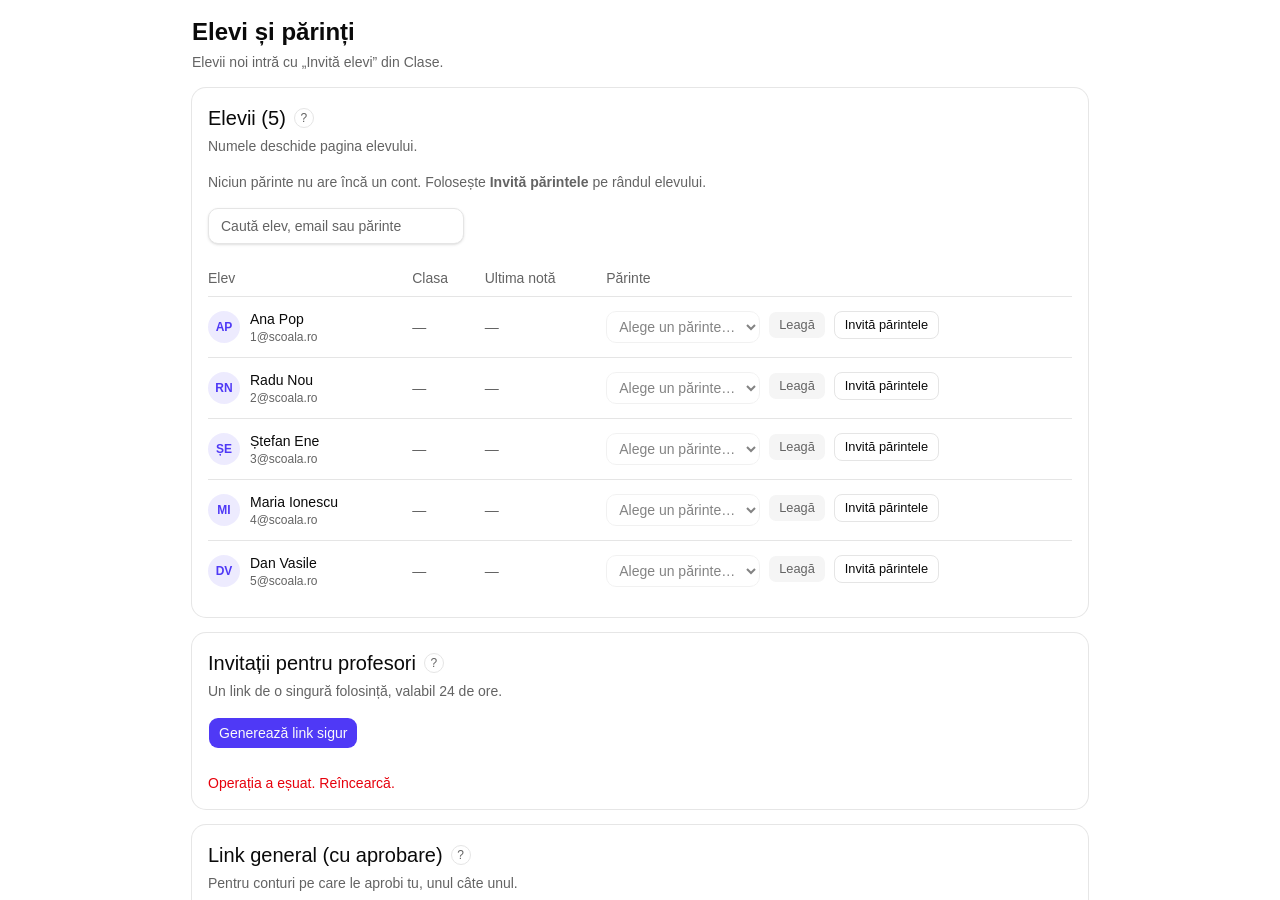
AdminStudentsPage › search and filters › finds a student by name, ignoring diacritics, and says how many are left
Check: the link "Ana Pop" is shown, box 250,311 -> 304,327
Type "stefan" into the search field labelled "Caută elev, email sau părinte" at (336, 226), box 208,208 -> 464,244
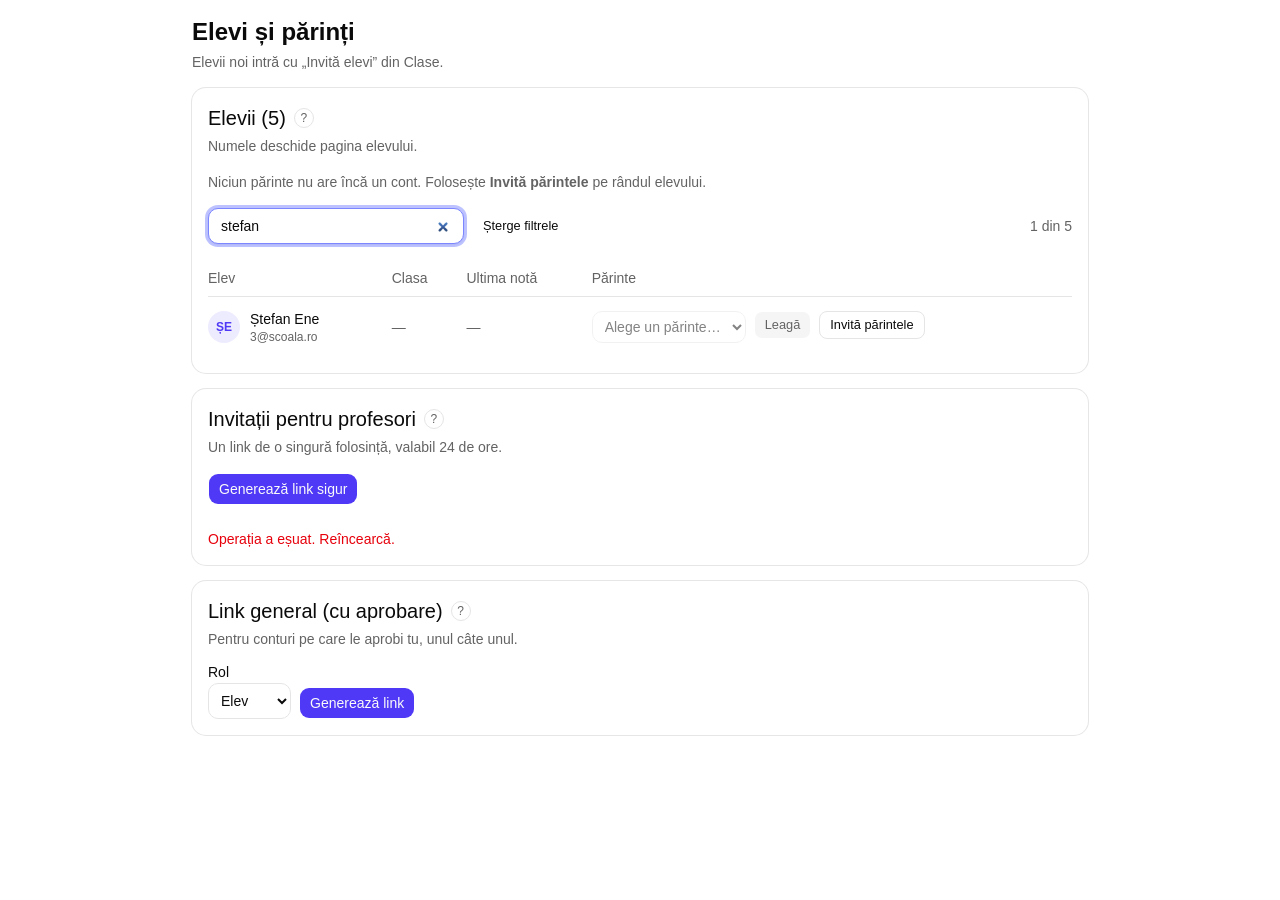
Check: the link "Ștefan Ene" is shown, box 250,309 -> 319,329
Check: the link "Ana Pop" is gone
Check: the message "1 din 5" is shown, box 1030,216 -> 1072,236
